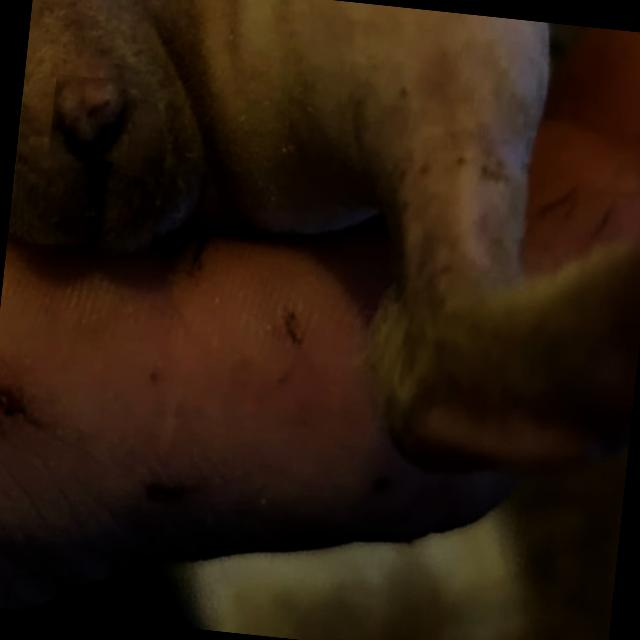mae: (13, 56, 169, 254)
mal: (48, 73, 147, 166)
